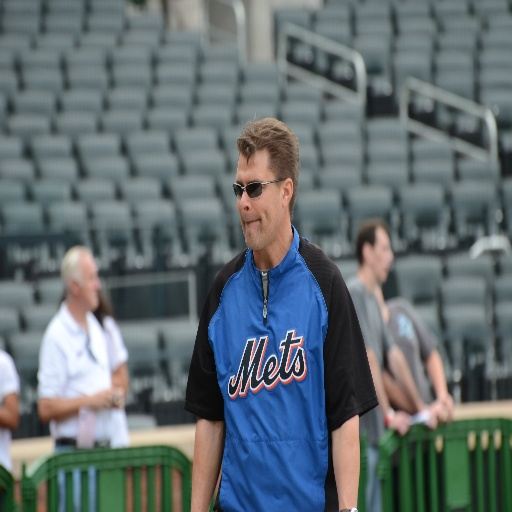hand: (388, 408, 412, 438), (427, 398, 448, 429), (94, 386, 121, 406), (438, 395, 455, 422)
